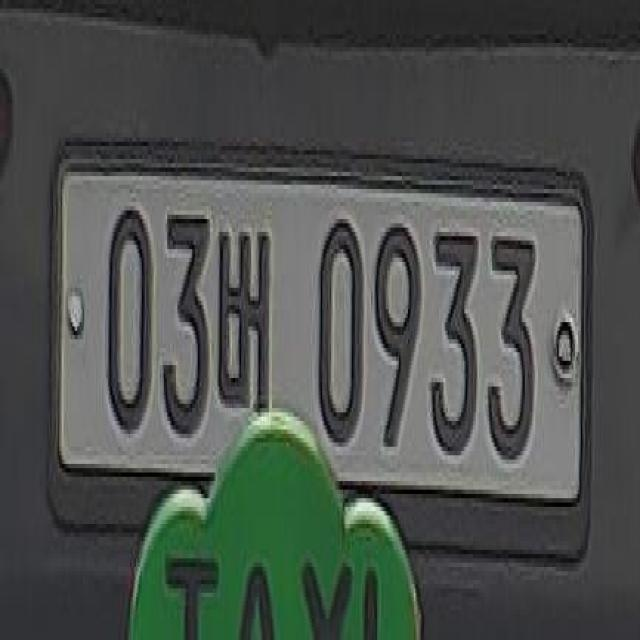illegal_plate: (61, 141, 594, 581)
